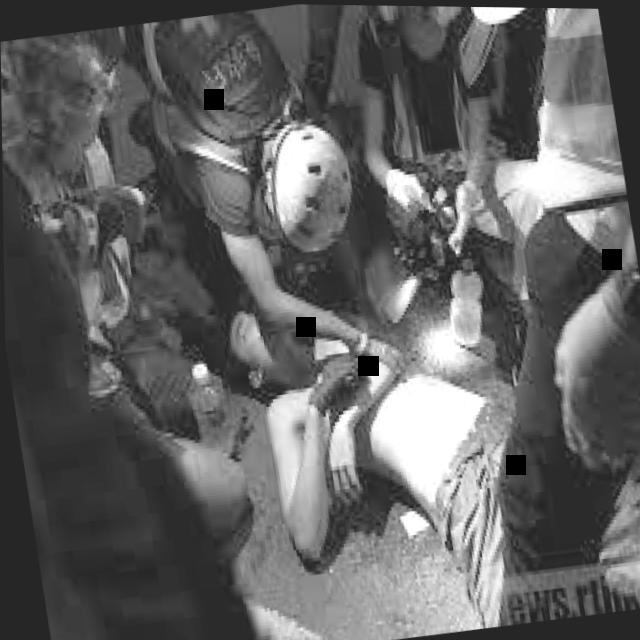Fall-Detected: (224, 247, 640, 640)
